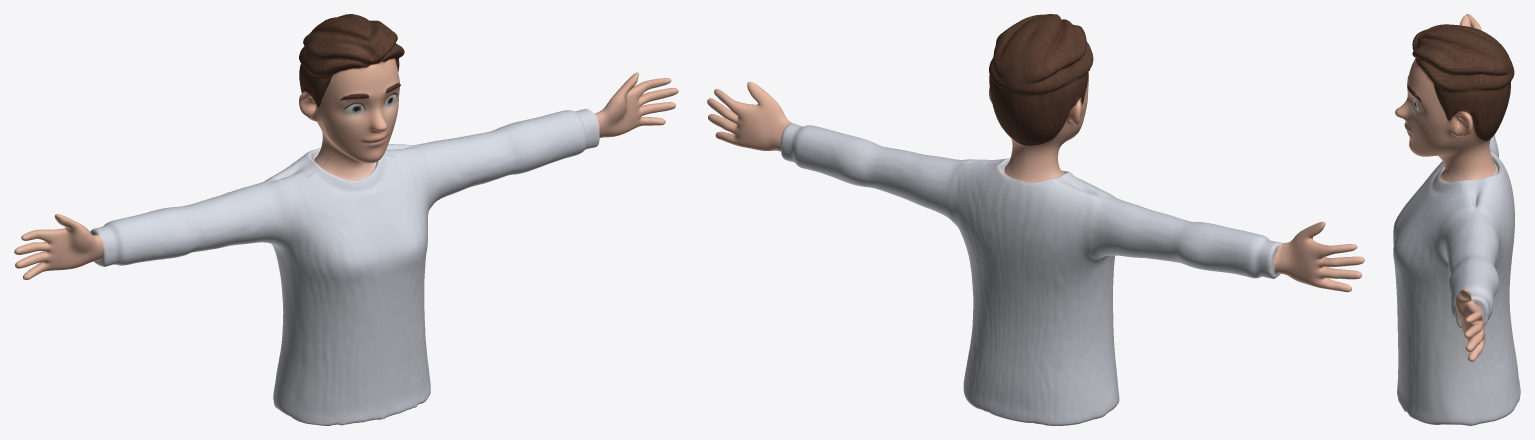
Rendered from base_basic_pbr.glb.
3 renders of one model, left to right at view 1: azimuth 30°, elevation 25°; view 2: azimuth 150°, elevation 25°; view 3: azimuth 270°, elevation 25°, orthographic. The views are drawn at different scales.
Visible parts, largest first — view 1: model; view 2: model; view 3: model.
Boxes of the visible parts, x1=… form: model: x1=14, y1=14, x2=678, y2=425; model: x1=707, y1=14, x2=1364, y2=425; model: x1=1393, y1=14, x2=1520, y2=425.
Bounding box in the file's own units: 1.89 × 1.03 × 0.3256.
1 material, 1 textured.
